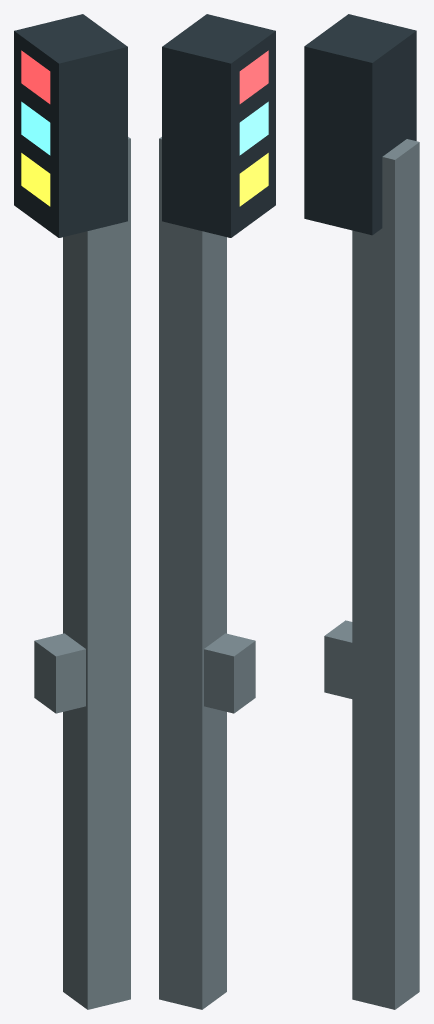
File: signal_pedestrian_pole_LOD0.glb
3 views of the same model, side by side, from view 1: azimuth 30°, elevation 25°; view 2: azimuth 150°, elevation 25°; view 3: azimuth 330°, elevation 25° (orthographic).
Parts seen in each view (by area): view 1: signal_pedestrian_pole__surface, signal_pedestrian_pole__ped_flash, signal_pedestrian_pole__ped_stop, signal_pedestrian_pole__ped_walk; view 2: signal_pedestrian_pole__surface, signal_pedestrian_pole__ped_flash, signal_pedestrian_pole__ped_stop, signal_pedestrian_pole__ped_walk; view 3: signal_pedestrian_pole__surface.
Boxes of the visible parts, x1=… form: signal_pedestrian_pole__surface: x1=14, y1=14, x2=130, y2=1009; signal_pedestrian_pole__ped_flash: x1=21, y1=153, x2=50, y2=206; signal_pedestrian_pole__ped_stop: x1=21, y1=50, x2=50, y2=103; signal_pedestrian_pole__ped_walk: x1=21, y1=101, x2=50, y2=155; signal_pedestrian_pole__surface: x1=159, y1=14, x2=275, y2=1009; signal_pedestrian_pole__ped_flash: x1=239, y1=153, x2=268, y2=206; signal_pedestrian_pole__ped_stop: x1=239, y1=50, x2=268, y2=103; signal_pedestrian_pole__ped_walk: x1=239, y1=101, x2=268, y2=155; signal_pedestrian_pole__surface: x1=304, y1=14, x2=419, y2=1009.
Bounding box in the file's own units: 0.287 × 3.2 × 0.27.
